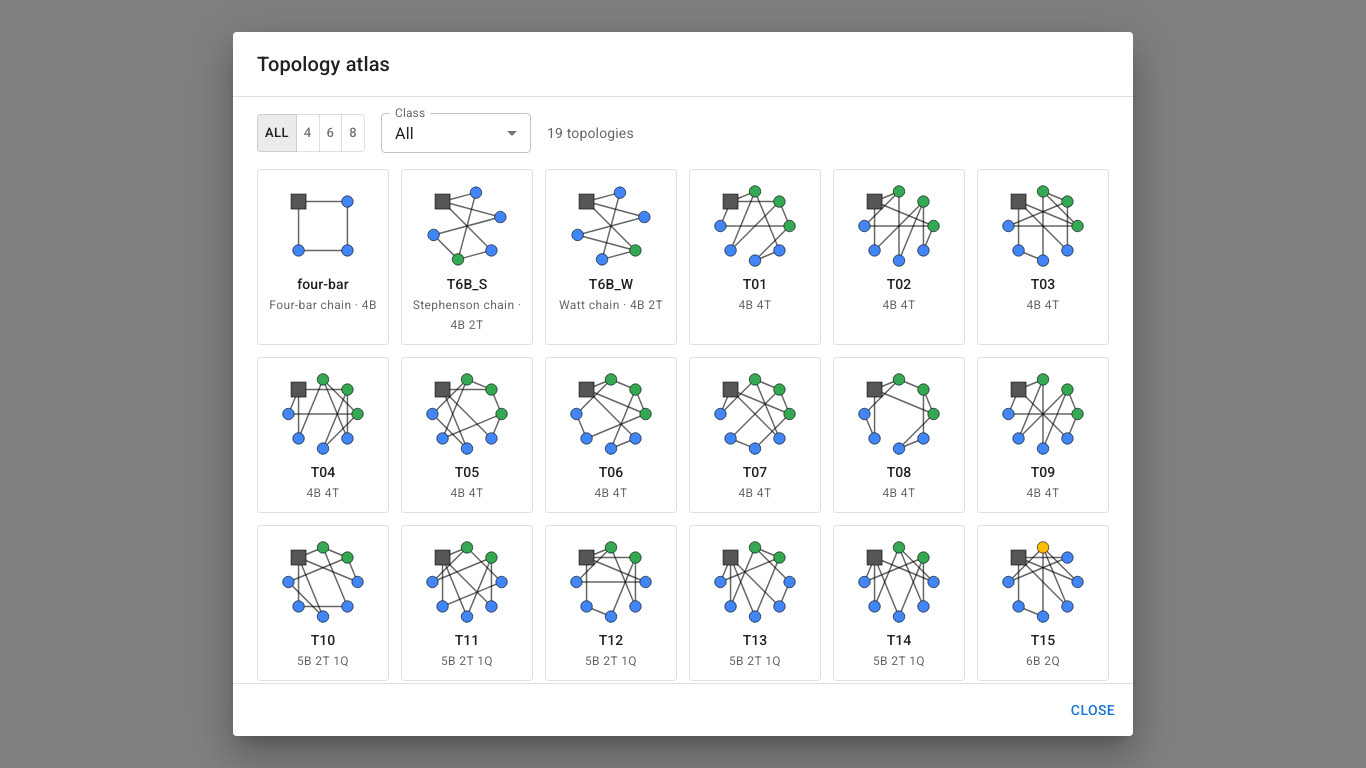
Test case: AtlasDialog › shows the first error when no document comes back
Click the button with test id "atlas-card" showing "T6B_S Stephenson chain · 4B 2T": (467, 257) [402,170,532,344]
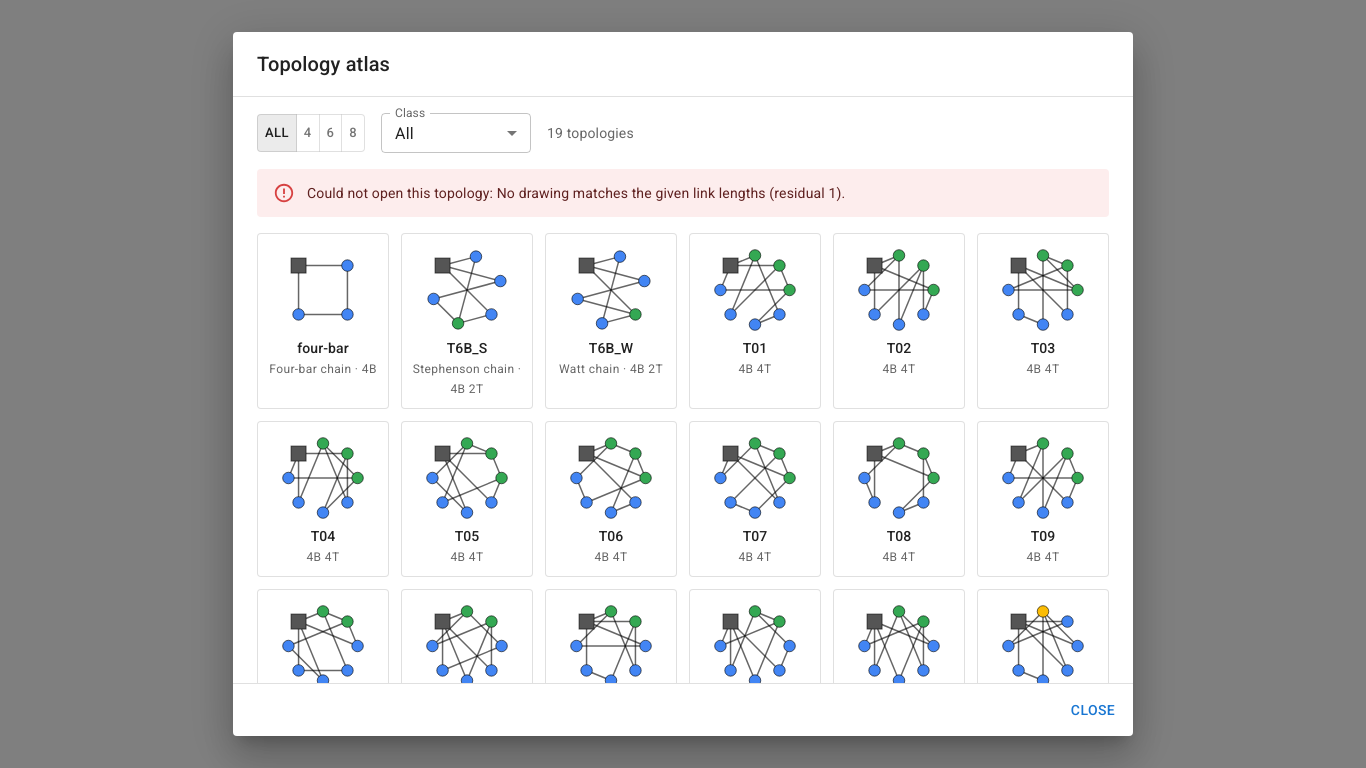
Result: the message with test id "atlas-error" is shown at [257,169,1109,217]
